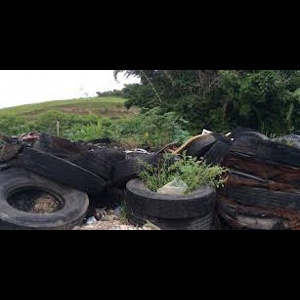tire: (1, 167, 89, 230), (19, 147, 107, 197), (123, 178, 218, 218)
